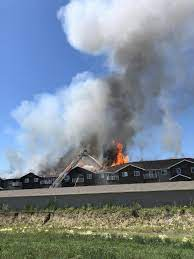smoke: (31, 1, 177, 159)
